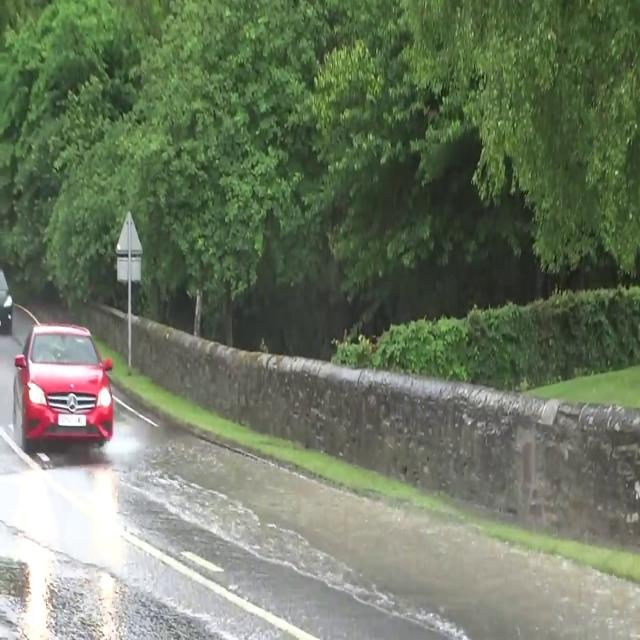license-plate-annotation: (58, 413, 89, 428)
